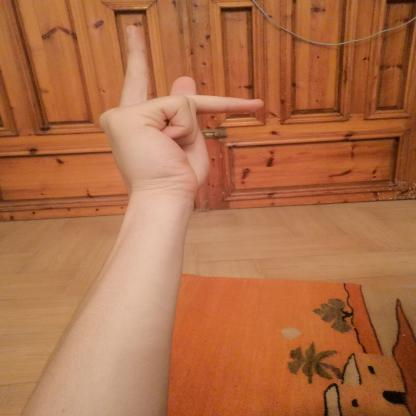DHAA: (86, 18, 274, 204)
